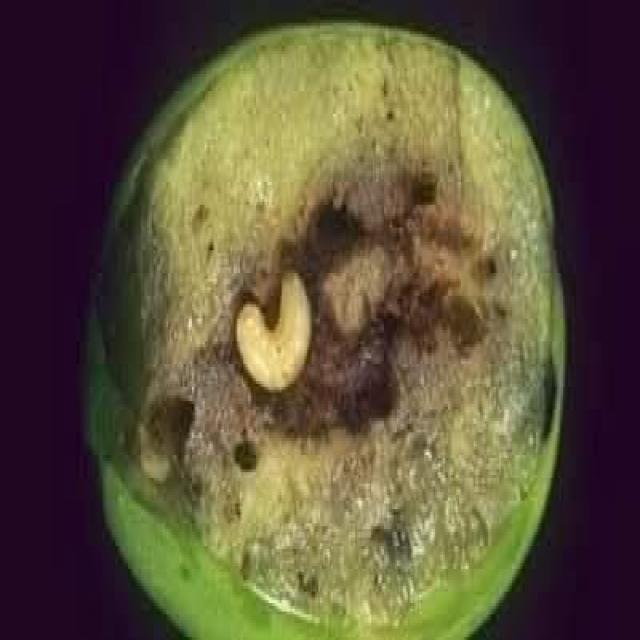Anthracnose: (86, 22, 564, 634)
